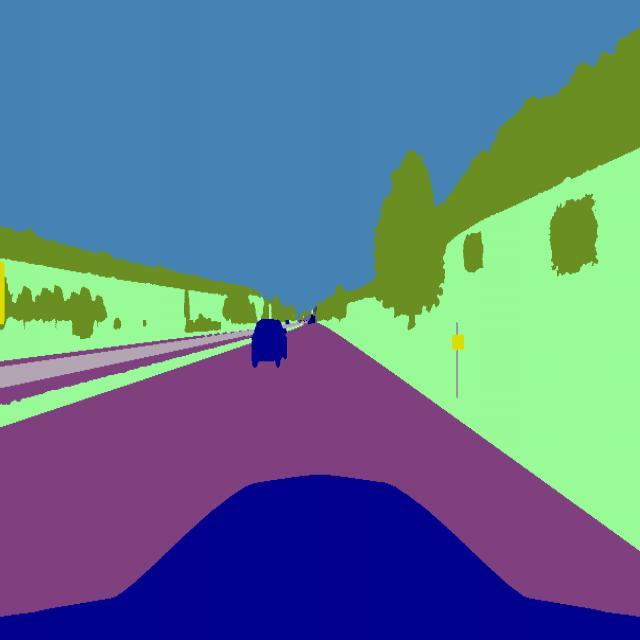safe: (250, 317, 290, 372)
